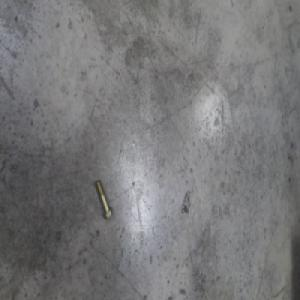Bolt: (94, 178, 113, 220)
